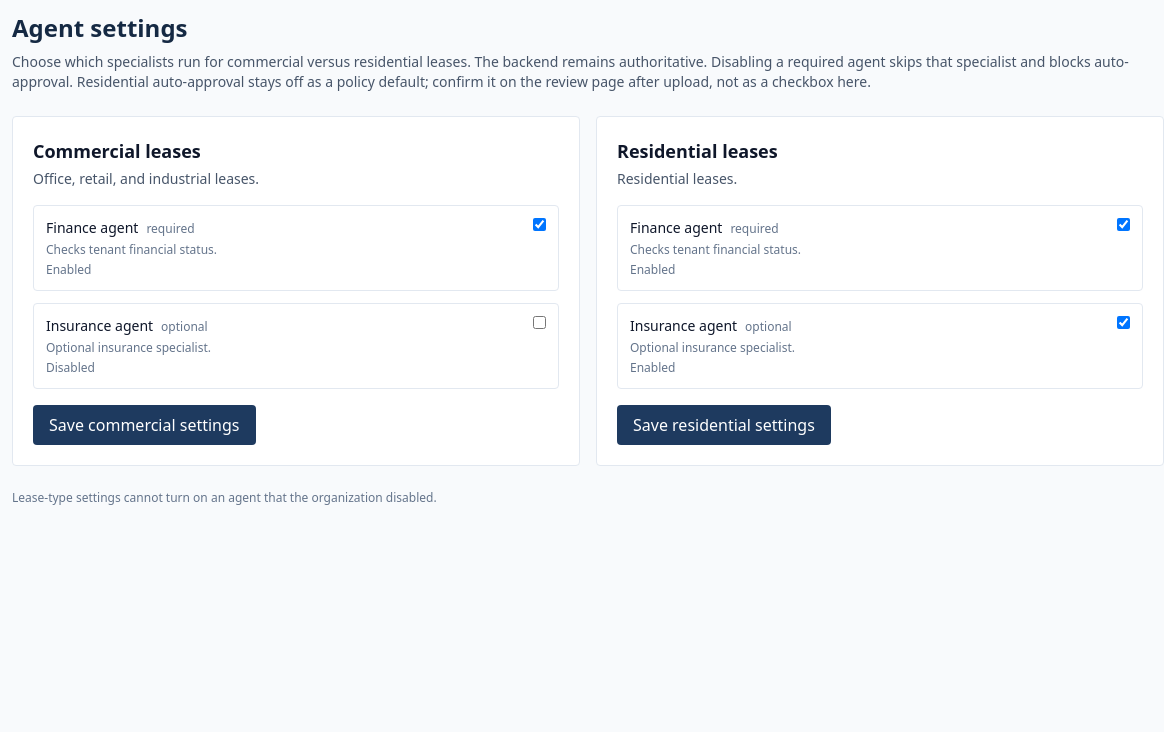
Test: saves residential agent toggles
Expected: the heading "Agent settings" is shown, [12,11,188,44]
Expected: the heading "Commercial leases" is shown, [33,139,201,163]
Click the 2nd checkbox labelled "Finance agent" at [1124, 224], box [1117,218,1130,231]
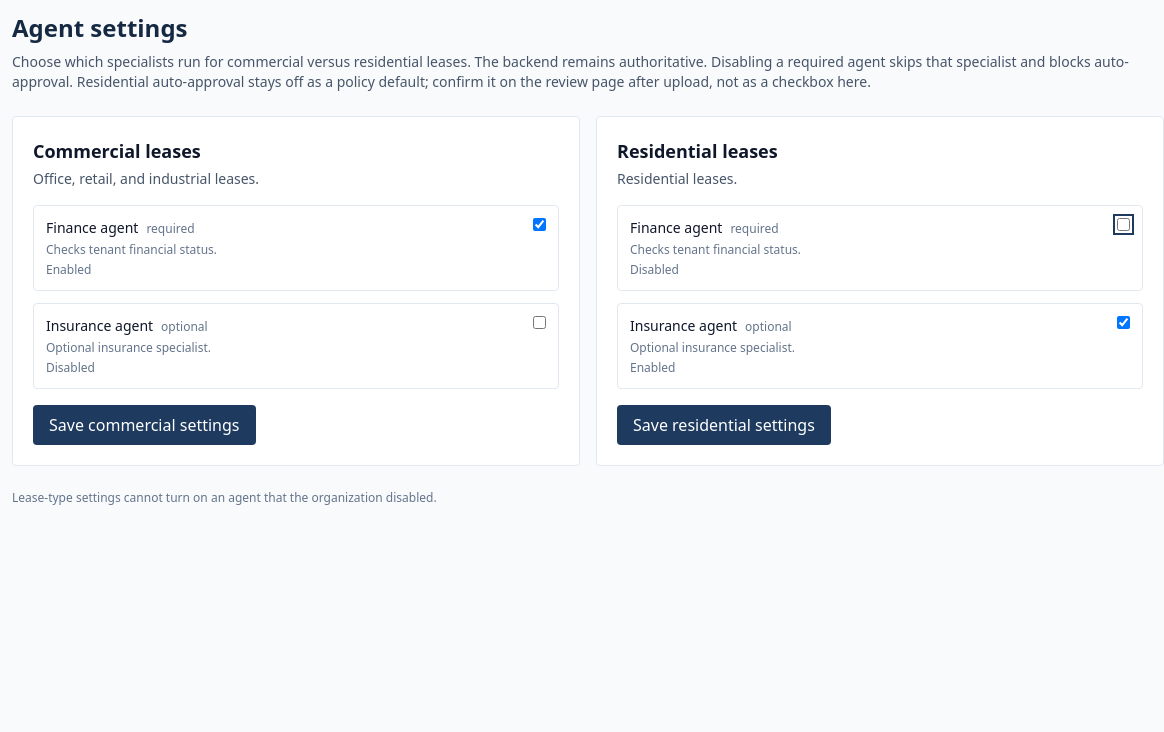
Click the button "Save residential settings" at [724, 425], box [617,405,831,445]
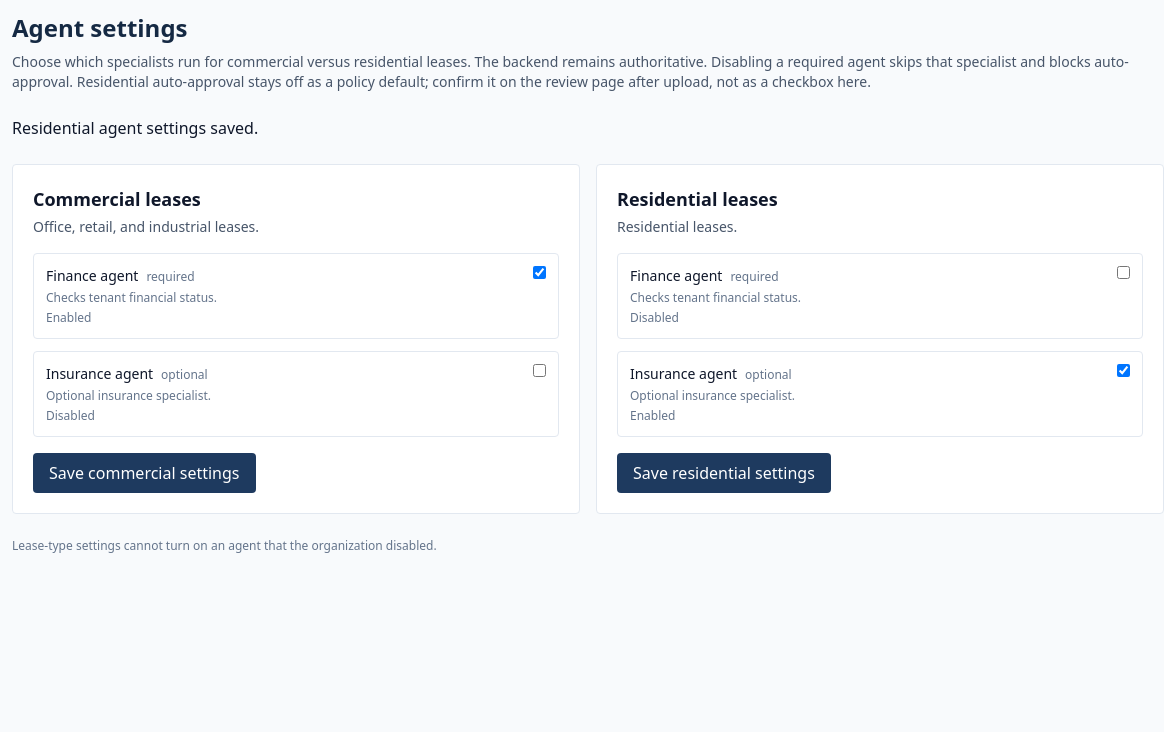
Result: the message shows "Residential agent settings saved" at [12,117,258,139]
